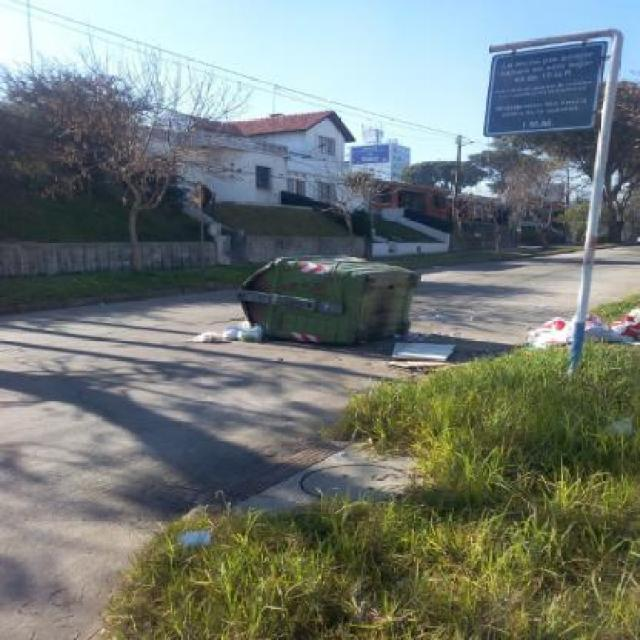garbage: (533, 311, 640, 341), (191, 318, 262, 346)
